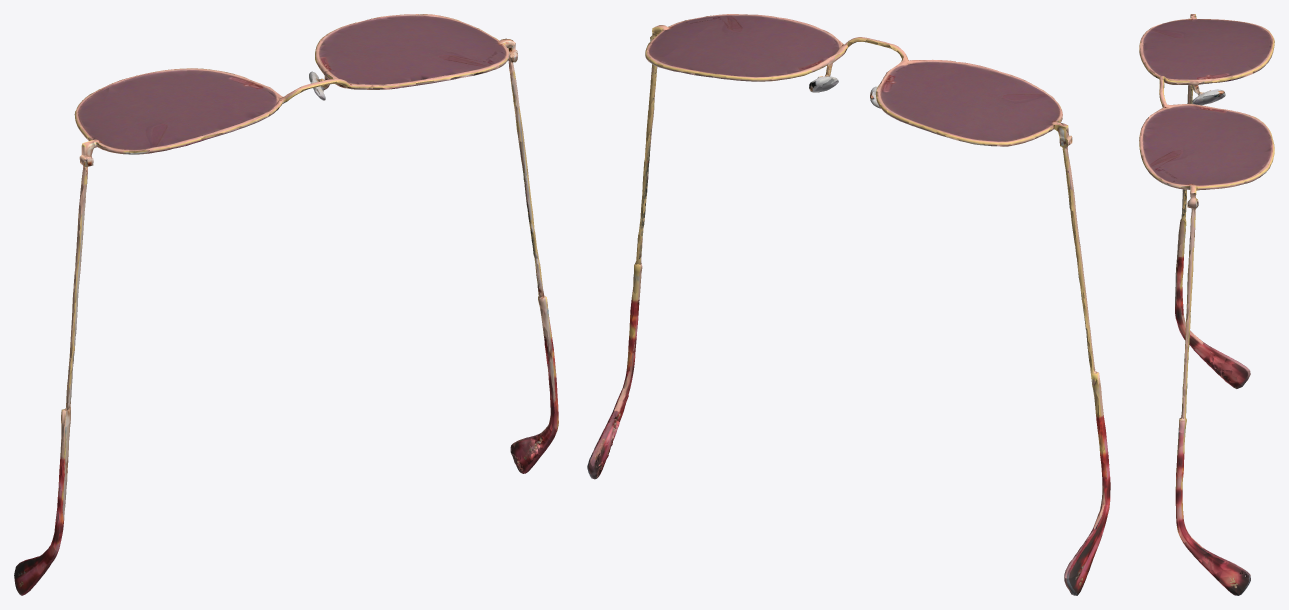
Rendered from Erbio.fbx.
3 views of the same model, side by side, from view 1: azimuth 30°, elevation 25°; view 2: azimuth 150°, elevation 25°; view 3: azimuth 270°, elevation 25° (orthographic). The views are drawn at different scales.
Parts seen in each view (by area): view 1: Mesh_0.021; view 2: Mesh_0.021; view 3: Mesh_0.021.
Boxes of the visible parts, x1,y1,x2,y2 form: Mesh_0.021: [14, 14, 558, 595]; Mesh_0.021: [587, 14, 1110, 595]; Mesh_0.021: [1139, 14, 1274, 595].
Size of the model in its own units: 0.3158 by 0.2881 by 0.0865.
Materials: 1 (1 with a texture image).
